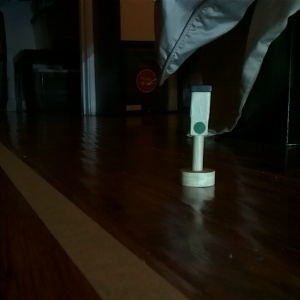traffic light green: (177, 82, 216, 190)
